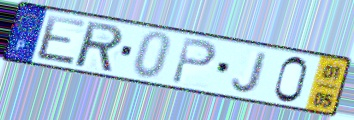0: (129, 30, 175, 82), (272, 55, 310, 104)
E: (34, 13, 88, 68)
J: (230, 50, 271, 95)
P: (169, 35, 218, 86)
R: (75, 19, 125, 74)
